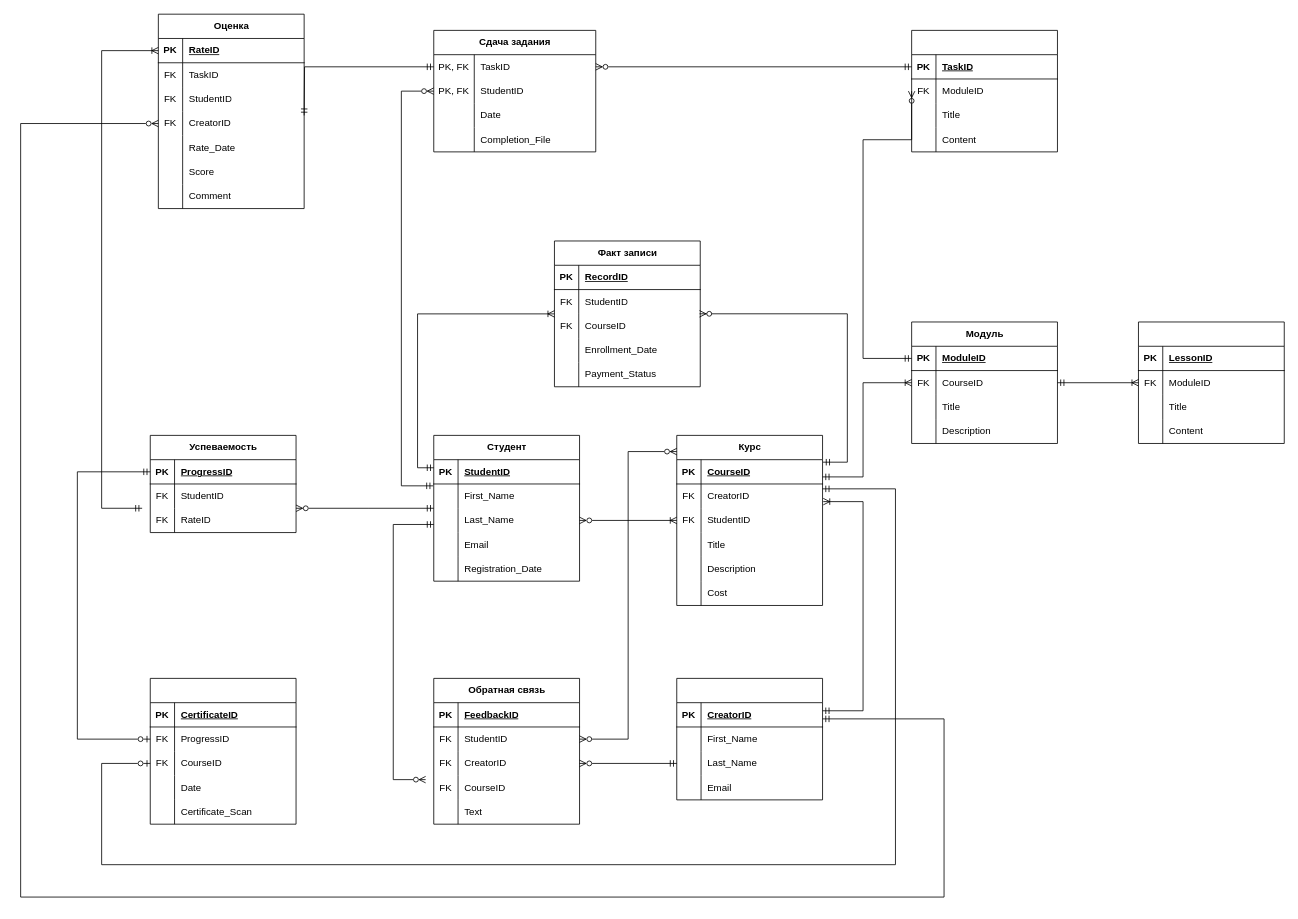
The diagram is 1298 pixels wide and 919 high, and some of its shapes have lost their labels. Here are the shapes that lost their labels. From the top down, the box of each, then its label:
(911, 30, 1057, 152): Условие задания
(1138, 321, 1284, 443): Урок
(149, 678, 296, 824): Сертификат
(676, 678, 823, 800): Создатель курса
